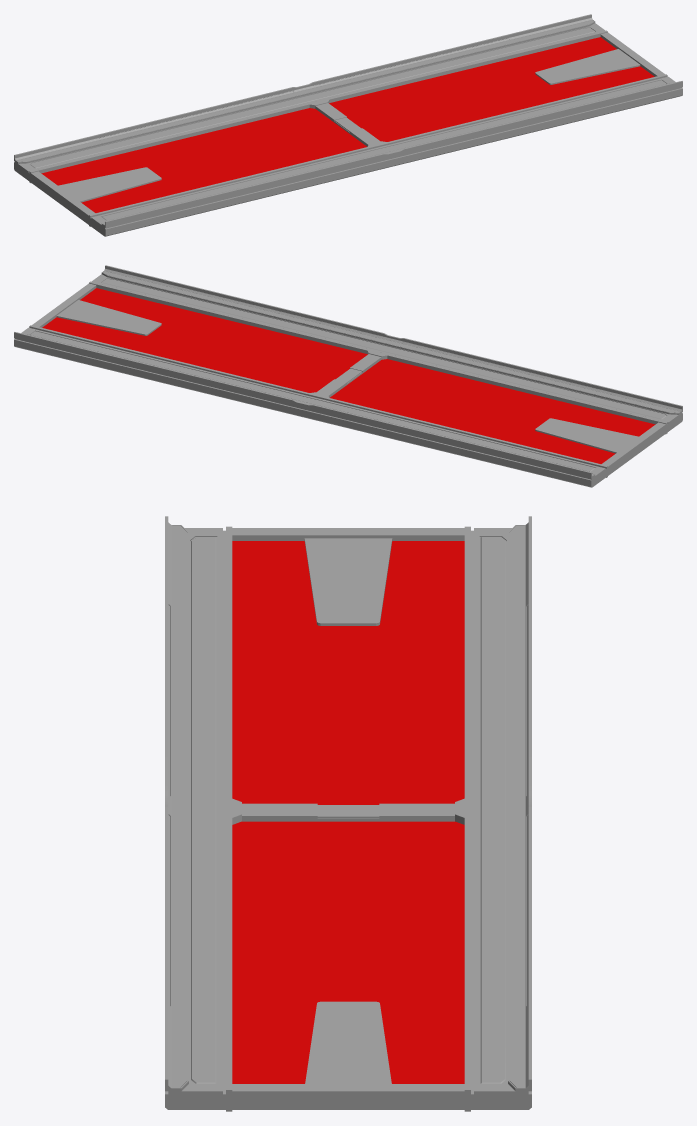
The model's file is PVB_Track_Tile_1_Export_Final.fbx.
3 views of the same model, one above another, from view 1: azimuth 30°, elevation 25°; view 2: azimuth 150°, elevation 25°; view 3: azimuth 270°, elevation 25° (orthographic). The views are drawn at different scales.
Parts seen in each view (by area): view 1: Track_Tile_1_Low2; view 2: Track_Tile_1_Low2; view 3: Track_Tile_1_Low2.
Part boxes in pixels (bbox=[...]): Track_Tile_1_Low2: bbox=[14, 14, 682, 236]; Track_Tile_1_Low2: bbox=[14, 265, 682, 487]; Track_Tile_1_Low2: bbox=[165, 516, 531, 1111].
Size of the model in its own units: 56.4 by 1.49 by 15.53.
